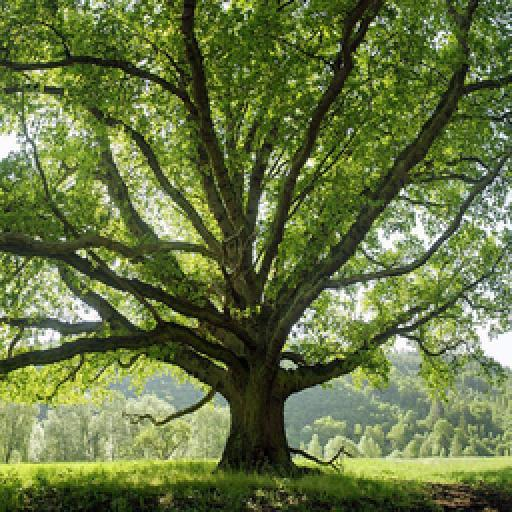trees: (0, 0, 510, 480)
